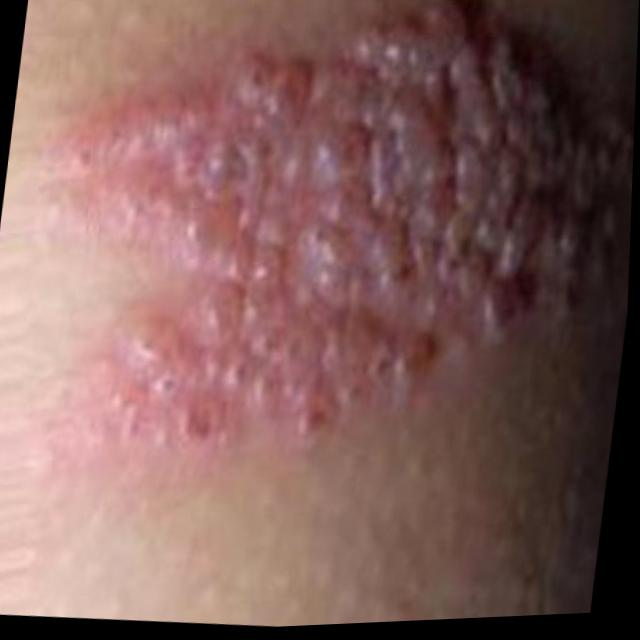Shingles: (18, 0, 640, 515)
